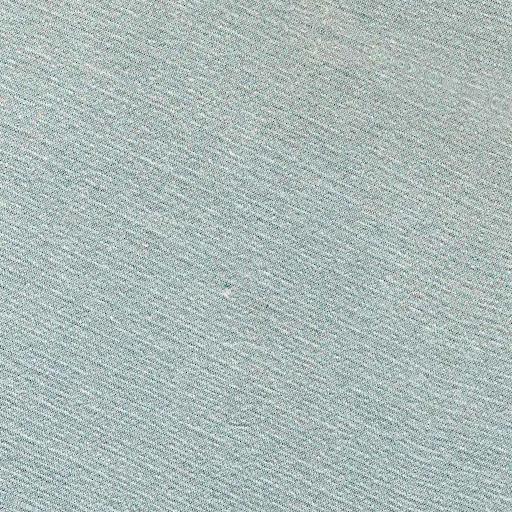knot: (214, 278, 246, 308)
